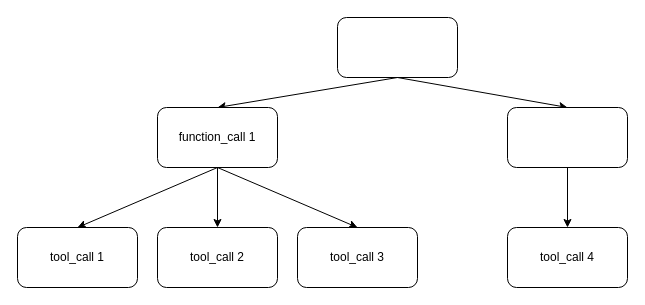
This 645x305 diagram has some shape labels left out. The box of each missing label's shape, as (x1, y1, x2, y2) in pixels:
function_call 2: (506, 106, 628, 168)
Start: (336, 16, 458, 78)
